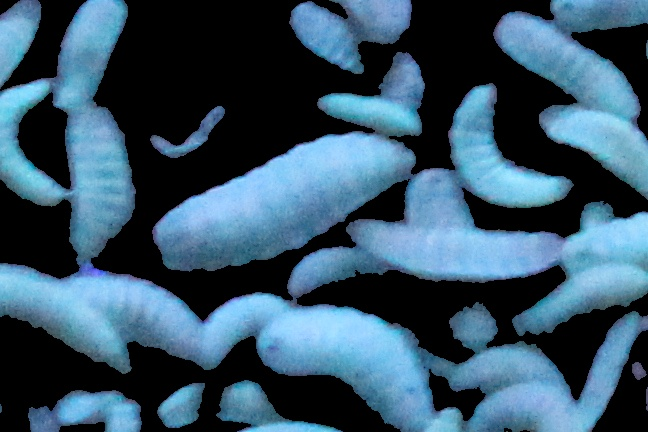larvae: (159, 131, 411, 268), (263, 302, 446, 428), (443, 88, 570, 207), (492, 13, 639, 110), (349, 212, 557, 280), (291, 1, 422, 95), (1, 263, 108, 371), (539, 99, 648, 195), (65, 113, 136, 258), (109, 274, 205, 362), (1, 84, 67, 204), (583, 310, 645, 432), (520, 280, 644, 338), (54, 1, 119, 111), (158, 370, 277, 428), (202, 291, 289, 364), (405, 164, 485, 239), (561, 217, 648, 276), (457, 344, 553, 393), (319, 90, 423, 135), (474, 388, 570, 432), (1, 1, 43, 87), (287, 268, 379, 289)
